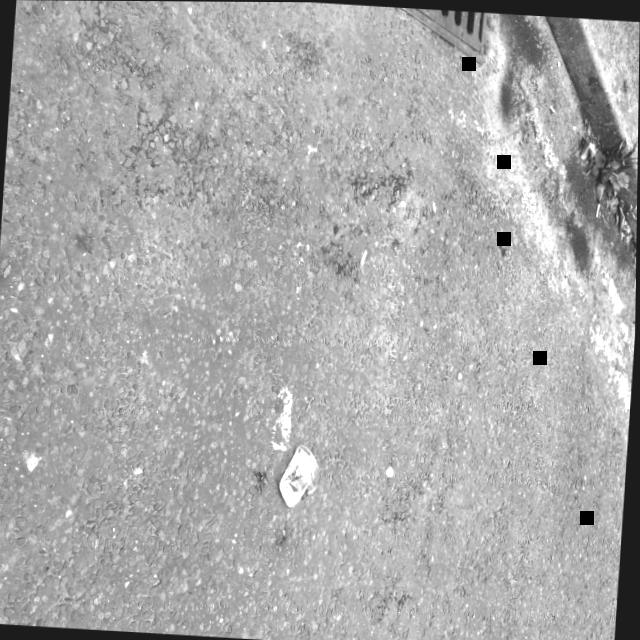Cigarette: (596, 202, 601, 215), (550, 103, 556, 111)
Disposable plastic cup: (281, 443, 321, 506)
Other plastic bottle: (458, 369, 464, 380)
